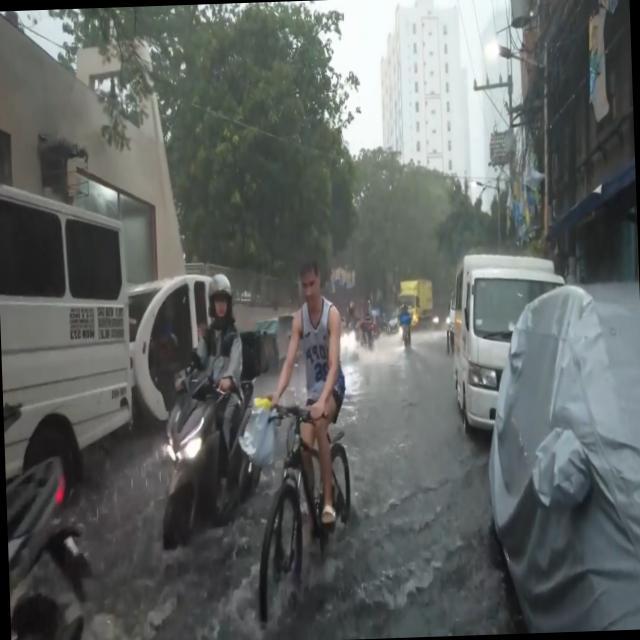half: (205, 272, 233, 322)
